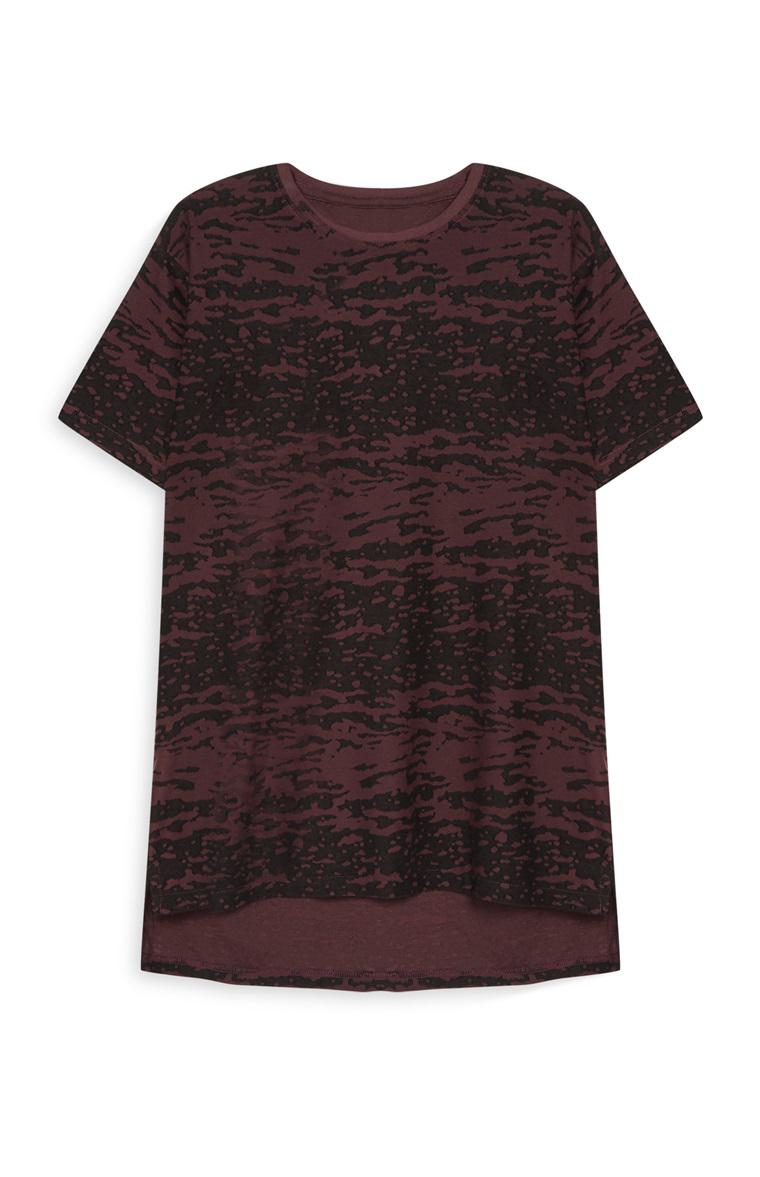teeshirt: (45, 129, 725, 1113)
